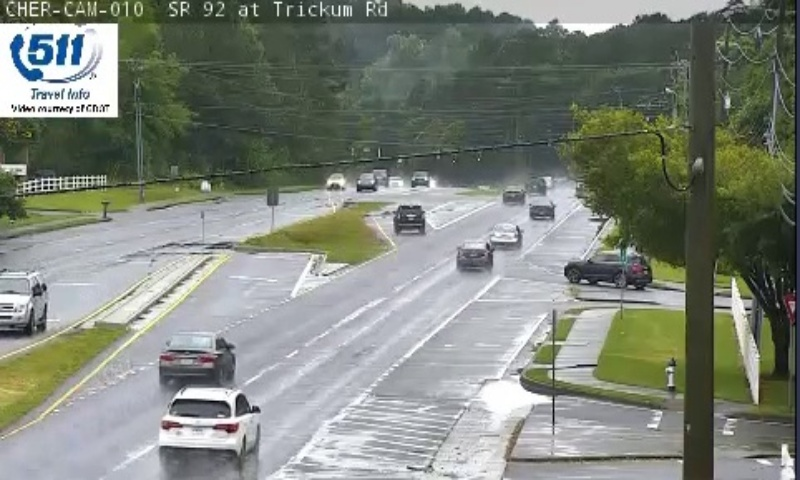car: (157, 386, 260, 454), (159, 333, 235, 378), (456, 240, 492, 268), (393, 203, 424, 232), (487, 221, 521, 247), (527, 198, 554, 220)
